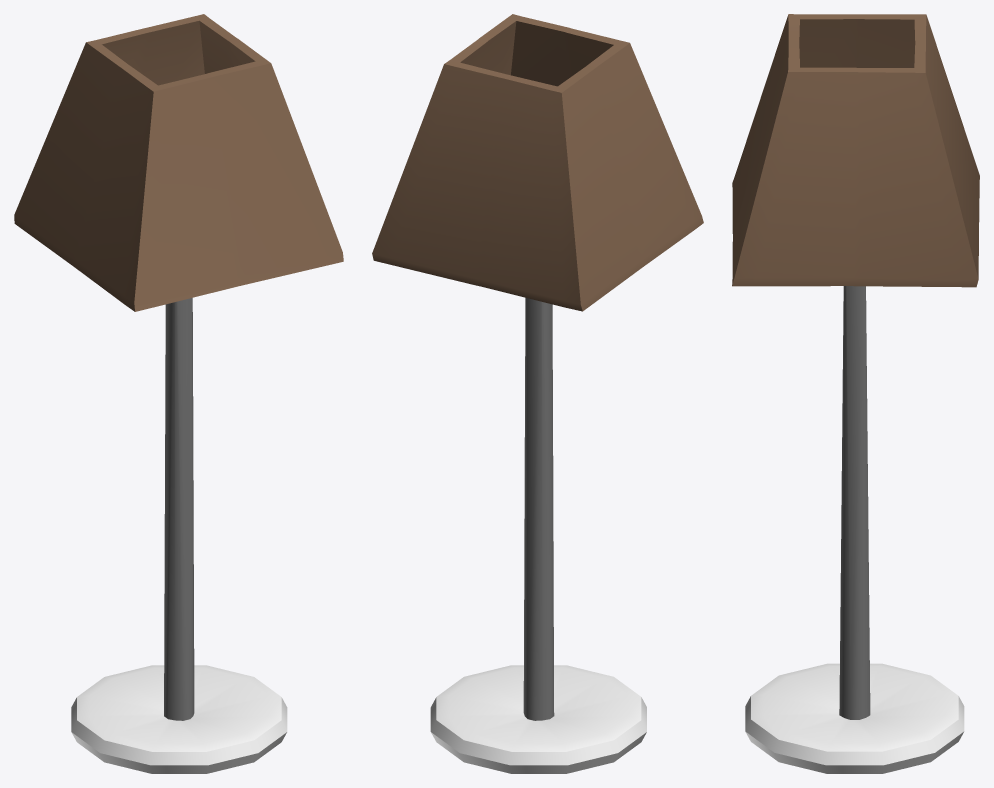
The model's file is CarlesLamparaGrande.fbx.
The picture shows the model from 3 angles, left to right: view 1: azimuth 30°, elevation 25°; view 2: azimuth 150°, elevation 25°; view 3: azimuth 270°, elevation 25°; orthographic projection.
Visible parts, largest first — view 1: LamparaLarga; view 2: LamparaLarga; view 3: LamparaLarga.
Part boxes in pixels (x1,y1,x2,y2): LamparaLarga: (14, 14, 343, 773); LamparaLarga: (372, 14, 703, 773); LamparaLarga: (732, 14, 979, 773).
Size of the model in its own units: 34.76 by 108 by 35.01.
